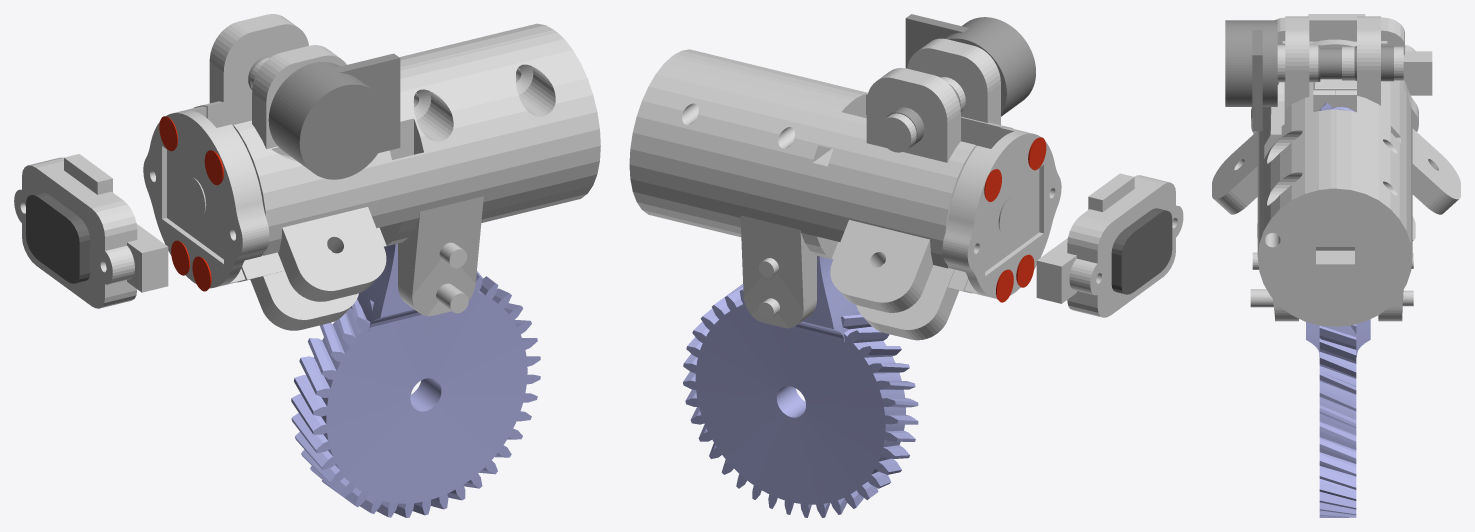
Rendered from manipulator_gripper.glb.
3 views of the same model, side by side, from view 1: azimuth 30°, elevation 25°; view 2: azimuth 150°, elevation 25°; view 3: azimuth 270°, elevation 25° (orthographic). The views are drawn at different scales.
Visible parts, largest first — view 1: Цилиндр.052, Gear.005, Крышка Захвата, Потенциометр.006, Куб.053, Куб.011, Куб.062, Куб.049, Куб.012, Куб.054, Куб.050, Цилиндр.046 (+6 smaller); view 2: Цилиндр.046, Gear.005, Крышка Захвата, Куб.051, Куб.061, Куб.011, Куб.049, Потенциометр.006, Куб.050, Куб.012, Куб.052, Цилиндр.052 (+6 smaller); view 3: Цилиндр.046, Цилиндр.052, Gear.005, Потенциометр.006, Куб.051, Куб.053, Куб.050, Куб.049, Крышка Захвата, Куб.013, Куб.014, Куб.046 (+5 smaller).
Boxes of the visible parts, left/top/right/bottom form: Цилиндр.052: left=233, top=30, right=600, bottom=282; Gear.005: left=291, top=271, right=540, bottom=517; Крышка Захвата: left=143, top=106, right=269, bottom=288; Потенциометр.006: left=248, top=53, right=400, bottom=179; Куб.053: left=278, top=207, right=386, bottom=301; Куб.011: left=22, top=157, right=137, bottom=308; Куб.062: left=398, top=196, right=483, bottom=316; Куб.049: left=209, top=14, right=308, bottom=103; Куб.012: left=26, top=192, right=90, bottom=283; Куб.054: left=250, top=271, right=358, bottom=330; Куб.050: left=252, top=45, right=346, bottom=149; Цилиндр.046: left=194, top=23, right=554, bottom=127; Цилиндр.046: left=629, top=56, right=976, bottom=293; Gear.005: left=683, top=284, right=918, bottom=517; Крышка Захвата: left=942, top=127, right=1061, bottom=298; Куб.051: left=830, top=220, right=933, bottom=312; Куб.061: left=740, top=215, right=816, bottom=328; Куб.011: left=1067, top=175, right=1175, bottom=317; Куб.049: left=866, top=68, right=960, bottom=162; Потенциометр.006: left=886, top=14, right=1035, bottom=147; Куб.050: left=907, top=38, right=1000, bottom=124; Куб.012: left=1111, top=208, right=1172, bottom=294; Куб.052: left=856, top=264, right=958, bottom=340; Цилиндр.052: left=673, top=49, right=1012, bottom=148; Цилиндр.046: left=1335, top=80, right=1412, bottom=326; Цилиндр.052: left=1257, top=82, right=1335, bottom=326; Gear.005: left=1319, top=324, right=1356, bottom=517; Потенциометр.006: left=1225, top=20, right=1393, bottom=131; Куб.051: left=1412, top=128, right=1460, bottom=214; Куб.053: left=1212, top=131, right=1257, bottom=214; Куб.050: left=1285, top=16, right=1309, bottom=108; Куб.049: left=1357, top=16, right=1380, bottom=105; Крышка Захвата: left=1251, top=39, right=1418, bottom=133; Куб.013: left=1308, top=14, right=1365, bottom=41; Куб.014: left=1403, top=51, right=1432, bottom=95; Куб.046: left=1306, top=319, right=1370, bottom=357.
Size of the model in its own units: 93.61 by 89.7 by 47.49.
